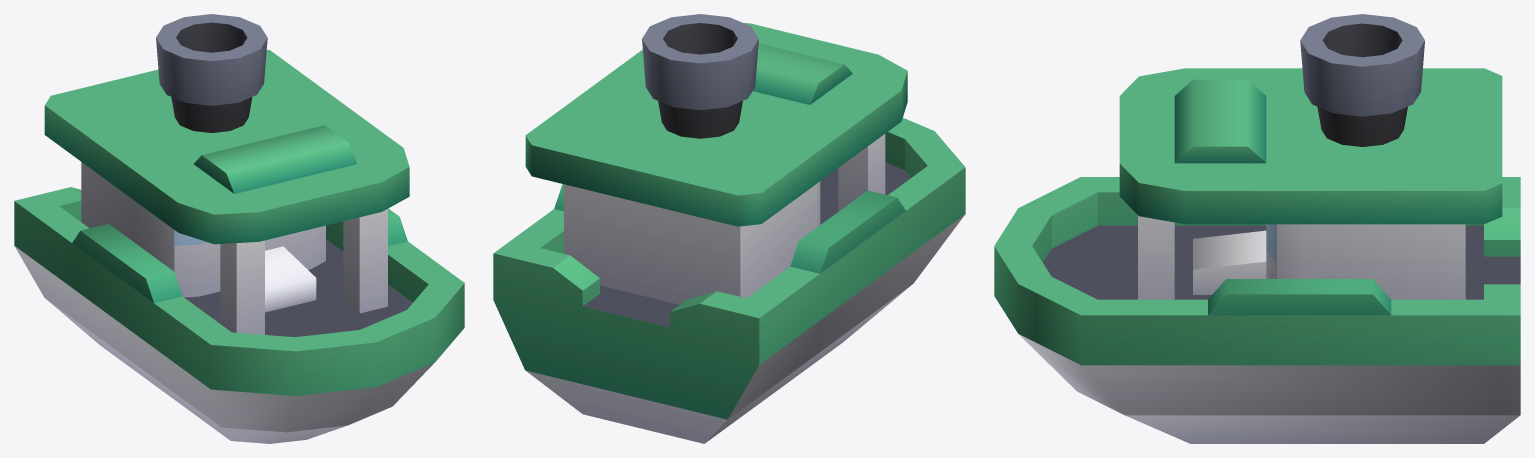
Rendered from boat-tug-b.glb.
The picture shows the model from 3 angles, left to right: view 1: azimuth 30°, elevation 25°; view 2: azimuth 150°, elevation 25°; view 3: azimuth 270°, elevation 25°; orthographic projection. The views are drawn at different scales.
Parts seen in each view (by area): view 1: boat-tug-b; view 2: boat-tug-b; view 3: boat-tug-b.
Boxes of the visible parts, left/top/right/bottom form: boat-tug-b: left=14, top=14, right=464, bottom=443; boat-tug-b: left=493, top=14, right=965, bottom=443; boat-tug-b: left=994, top=14, right=1520, bottom=443.
Bounding box in the file's own units: 1.78 × 2.24 × 2.87.
Materials: 1 (1 with a texture image).
